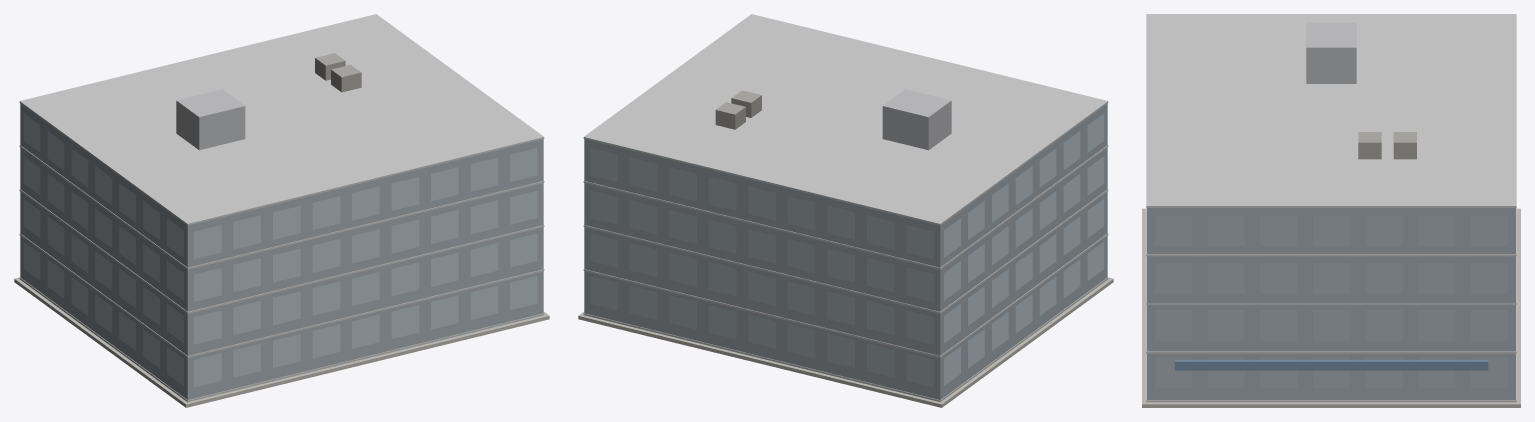
Rendered from 13_office_commerce-03.glb.
The picture shows the model from 3 angles, left to right: view 1: azimuth 30°, elevation 25°; view 2: azimuth 150°, elevation 25°; view 3: azimuth 270°, elevation 25°; orthographic projection. The views are drawn at different scales.
Size of the model in its own units: 27.6 by 15.58 by 22.6.
